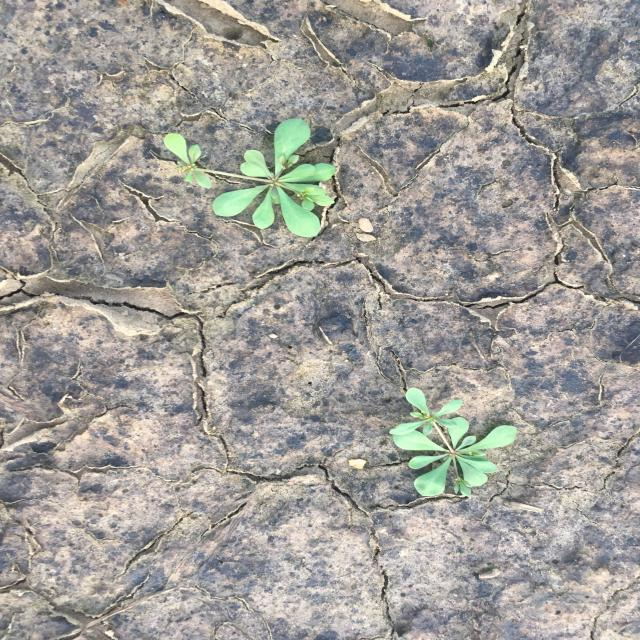Carpetweed: (162, 116, 339, 240), (387, 387, 518, 500)
